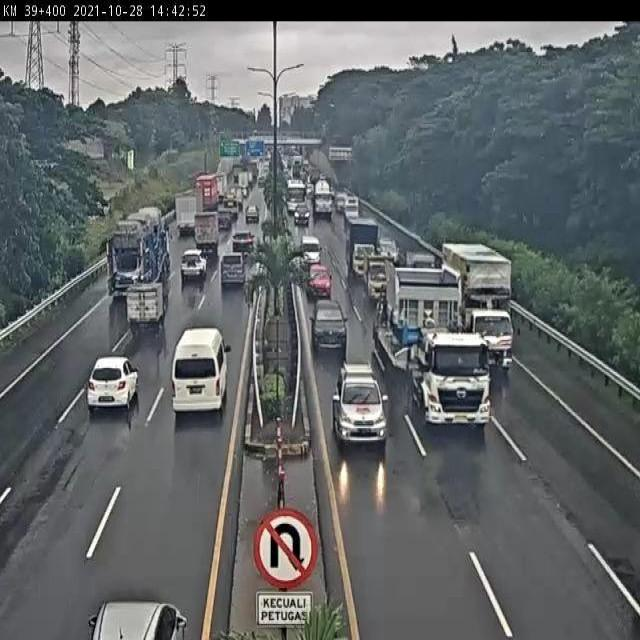big truck: (106, 205, 175, 300)
car: (172, 325, 230, 416), (335, 364, 385, 447), (85, 356, 142, 416), (310, 297, 349, 353), (219, 252, 245, 289), (180, 251, 208, 285), (307, 265, 334, 300)
small truck: (125, 284, 168, 331)
truck-l-: (440, 244, 513, 377)
truck-m-: (344, 216, 377, 275), (366, 255, 390, 302)
truck-xl-: (379, 261, 492, 432)
